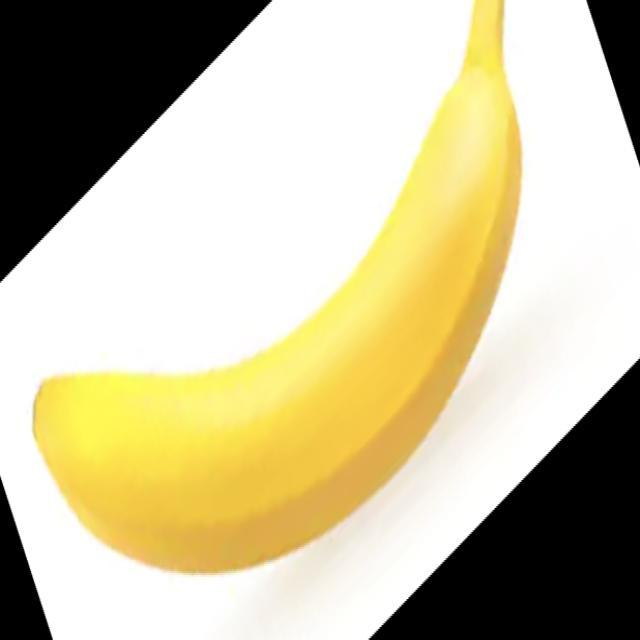Banana: (31, 0, 523, 575)
